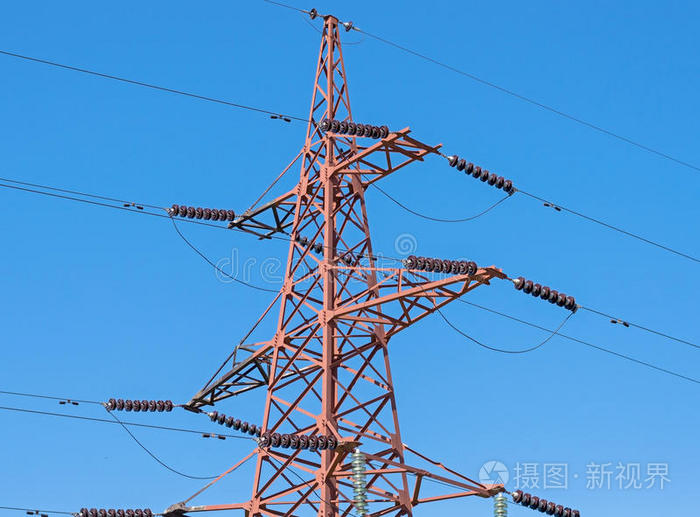insulator: (448, 154, 513, 192), (514, 276, 576, 309), (511, 488, 576, 517), (405, 252, 477, 276), (321, 117, 390, 141), (210, 410, 264, 439), (262, 432, 337, 452), (349, 450, 370, 515), (170, 201, 234, 222), (104, 395, 174, 413), (78, 507, 156, 517), (490, 496, 506, 517)
